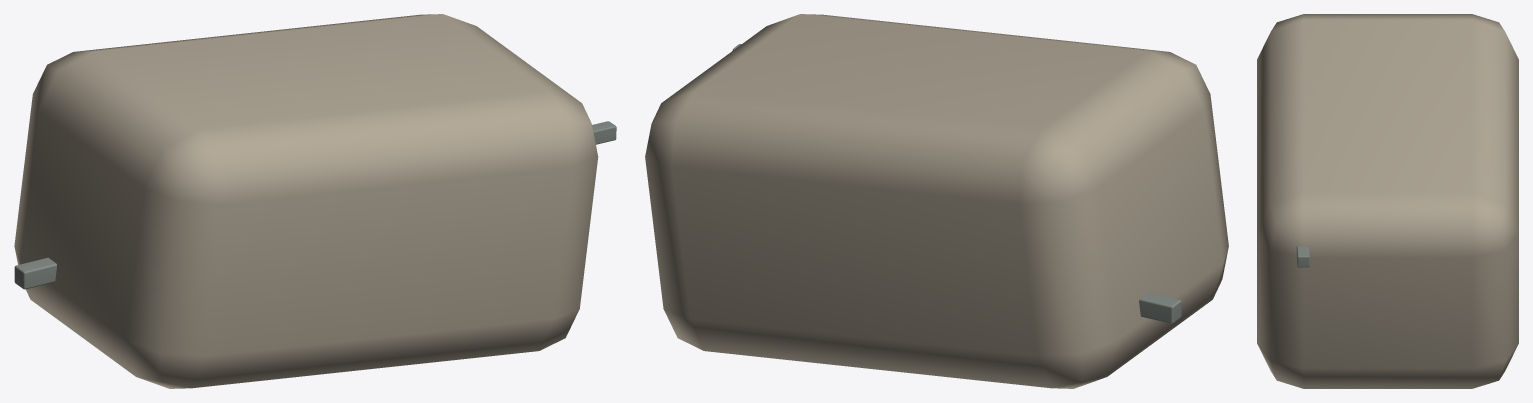
File: concrete_fragment.glb
3 renders of one model, left to right at view 1: azimuth 30°, elevation 25°; view 2: azimuth 150°, elevation 25°; view 3: azimuth 270°, elevation 25°, orthographic. The views are drawn at different scales.
Parts seen in each view (by area): view 1: Broken concrete, Exposed reinforcement; view 2: Broken concrete, Exposed reinforcement; view 3: Broken concrete, Exposed reinforcement.001.
Boxes of the visible parts, x1,y1,x2,y2 form: Broken concrete: (14,14,598,388); Exposed reinforcement: (14,257,56,289); Broken concrete: (645,14,1228,388); Exposed reinforcement: (1139,292,1181,323); Broken concrete: (1257,14,1518,388); Exposed reinforcement.001: (1296,246,1309,267).
Bounding box in the file's own units: 1.02 × 0.5654 × 0.56.
